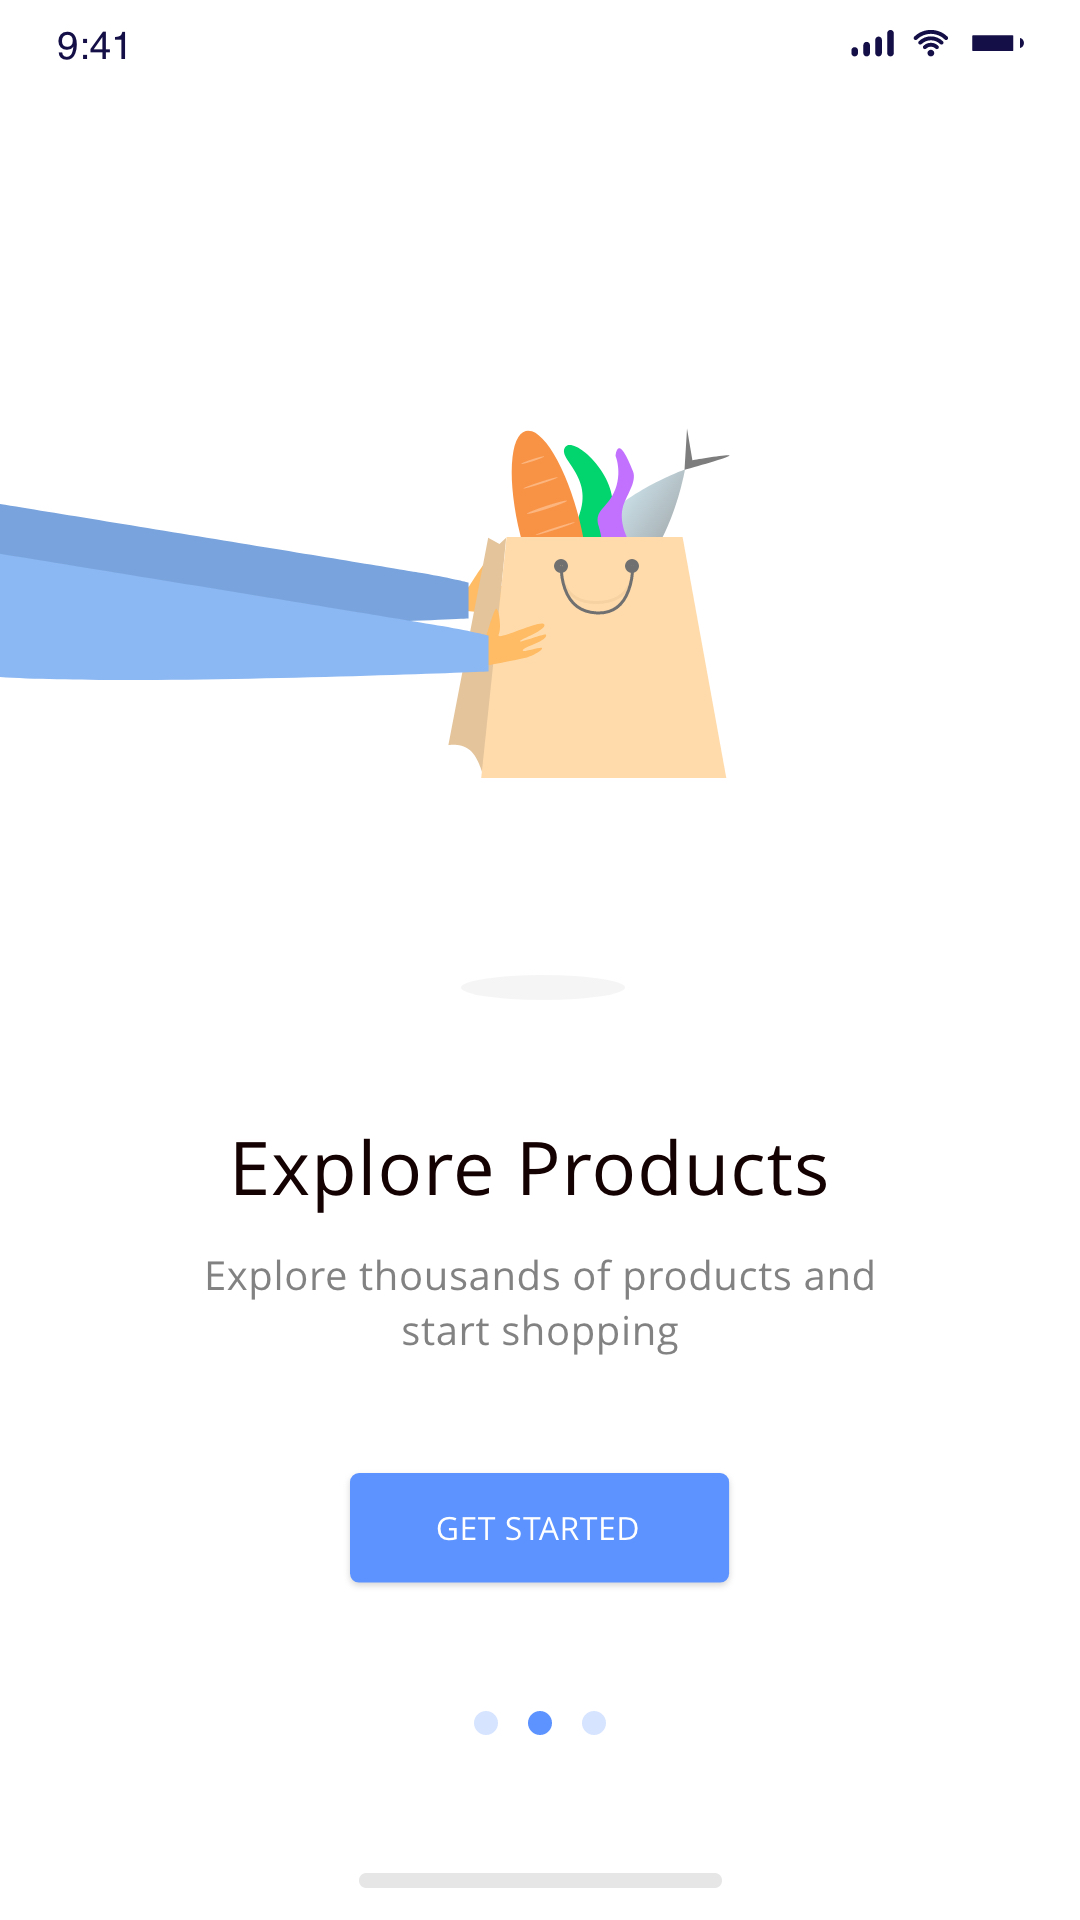Image: (1, 429, 731, 781)
PageIndicator: (473, 1709, 608, 1737)
Text: (207, 1255, 876, 1358), (233, 1134, 831, 1217)
TextButton: (349, 1472, 731, 1584)
UpperTaskBar: (58, 29, 1025, 62)
